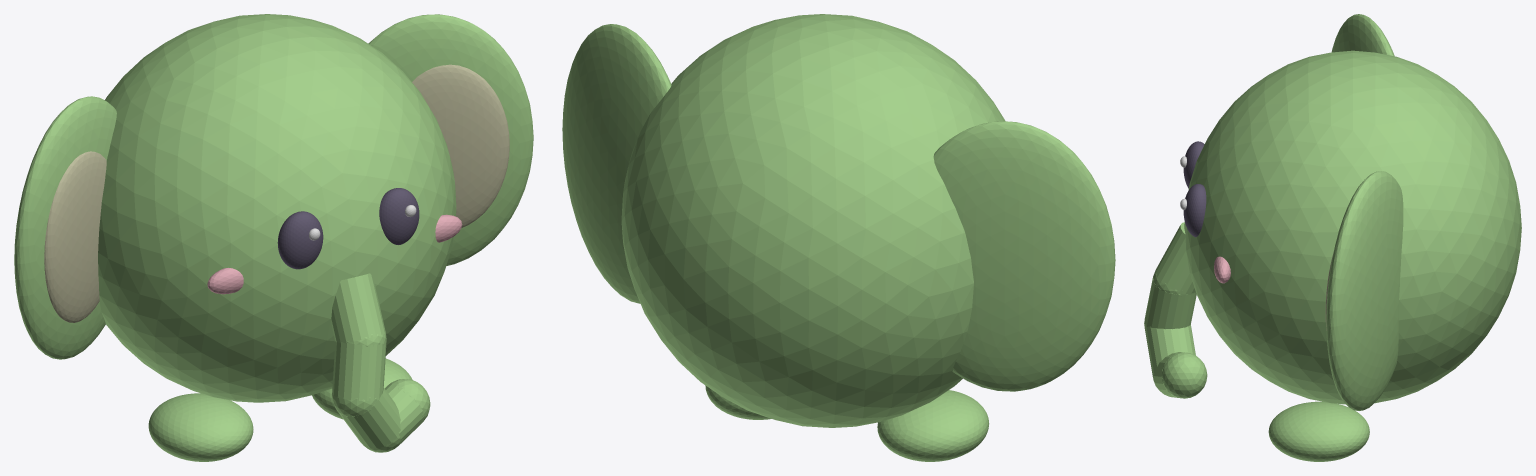
The model's file is paon_leaf.glb.
3 renders of one model, left to right at view 1: azimuth 30°, elevation 25°; view 2: azimuth 150°, elevation 25°; view 3: azimuth 270°, elevation 25°, orthographic. The views are drawn at different scales.
Parts seen in each view (by area): view 1: paon_0, paon_3, paon_1, paon_4, paon_2, paon_19, paon_5, paon_7, paon_13, paon_9, paon_16, paon_11 (+5 smaller); view 2: paon_0, paon_1, paon_3, paon_19, paon_20; view 3: paon_0, paon_3, paon_20, paon_7, paon_1, paon_12, paon_5, paon_9, paon_16, paon_13.
Part boxes in pixels (box(x1,y1,x2,y2)): paon_0: box(98, 14, 456, 402); paon_3: box(368, 14, 533, 265); paon_1: box(14, 96, 116, 359); paon_4: box(412, 64, 509, 227); paon_2: box(44, 151, 106, 322); paon_19: box(148, 393, 253, 461); paon_5: box(331, 273, 385, 343); paon_7: box(332, 341, 386, 400); paon_13: box(277, 211, 323, 269); paon_9: box(336, 388, 400, 448); paon_16: box(379, 188, 419, 244); paon_11: box(384, 384, 424, 443); paon_0: box(621, 14, 1005, 427); paon_1: box(933, 121, 1115, 391); paon_3: box(562, 24, 671, 303); paon_19: box(877, 390, 989, 461); paon_20: box(705, 385, 771, 419); paon_0: box(1184, 50, 1521, 404); paon_3: box(1326, 171, 1403, 410); paon_20: box(1268, 401, 1369, 461); paon_7: box(1144, 276, 1196, 329); paon_1: box(1331, 14, 1394, 56); paon_12: box(1162, 352, 1207, 398); paon_5: box(1155, 222, 1195, 294); paon_9: box(1144, 324, 1195, 377); paon_16: box(1183, 184, 1206, 237); paon_13: box(1183, 141, 1204, 188).
Size of the model in its own units: 1.67 by 1.2 by 1.16.
